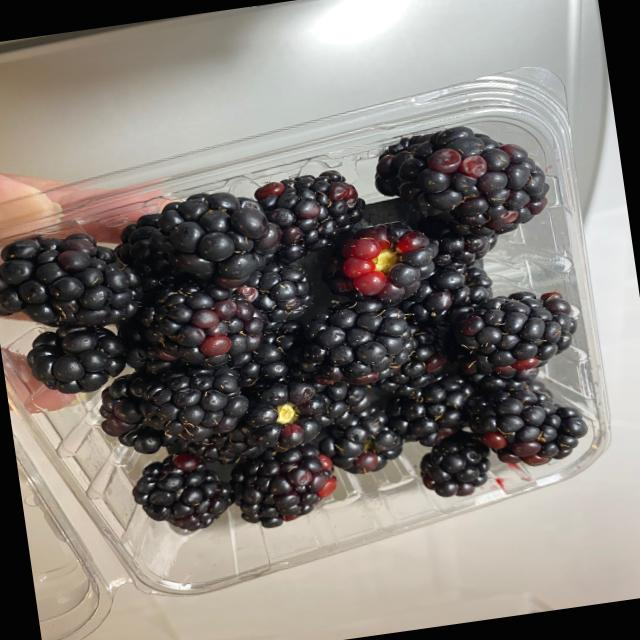blackberries: (27, 129, 604, 576)
